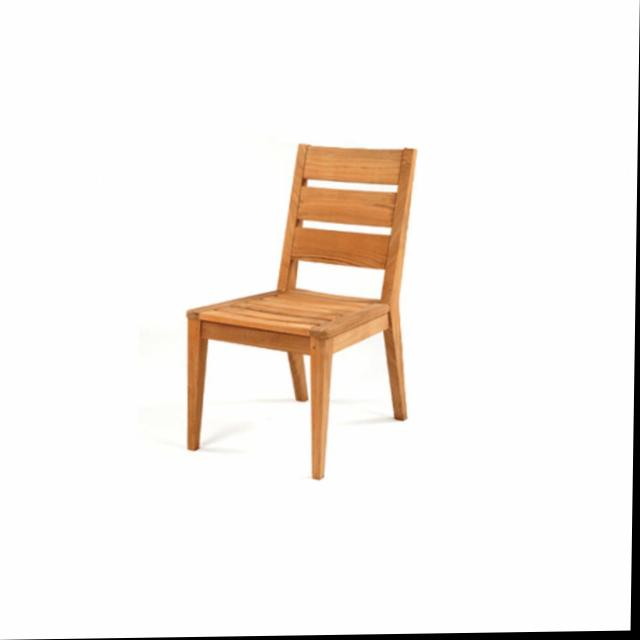Chair: (186, 142, 418, 483)
